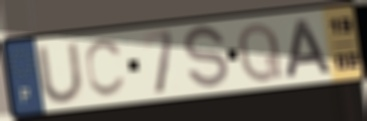7: (140, 27, 175, 97)
A: (282, 17, 335, 81)
C: (83, 37, 128, 101)
Q: (236, 20, 286, 85)
S: (182, 23, 231, 94)
U: (34, 39, 88, 105)
